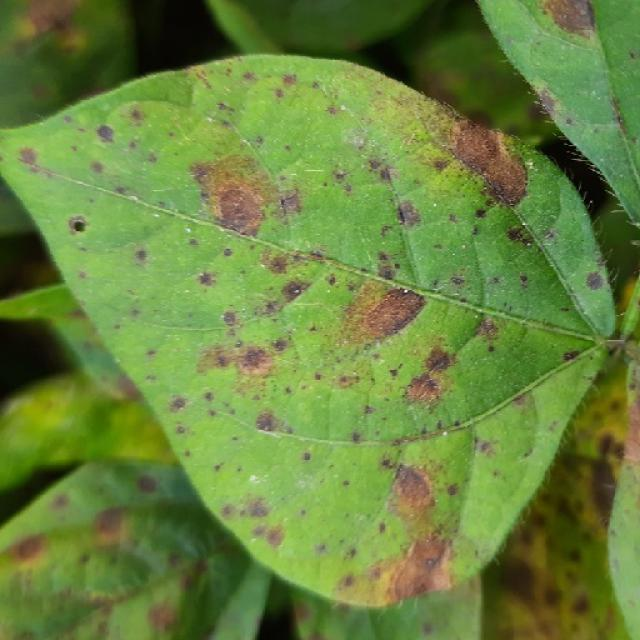Anthracnose: (429, 310, 589, 425), (192, 154, 276, 236), (449, 120, 527, 204), (341, 281, 426, 344), (383, 534, 454, 601), (197, 336, 286, 383), (248, 271, 318, 320), (588, 447, 621, 523), (390, 464, 434, 514), (498, 553, 541, 602), (545, 1, 596, 36), (406, 367, 450, 405), (329, 161, 371, 199), (147, 595, 180, 633), (609, 95, 632, 149), (10, 533, 47, 562), (94, 506, 126, 539), (236, 496, 274, 523), (534, 89, 562, 120), (396, 199, 423, 227), (472, 316, 499, 341), (254, 412, 277, 433), (17, 146, 38, 167), (264, 526, 284, 547), (137, 474, 158, 494), (585, 271, 604, 291), (95, 124, 115, 143), (68, 215, 88, 234), (476, 438, 496, 456), (168, 395, 188, 413), (572, 594, 590, 614), (377, 263, 396, 281), (51, 493, 70, 510), (271, 337, 289, 353), (336, 375, 357, 388), (221, 310, 237, 326), (197, 272, 214, 287), (562, 349, 581, 362), (216, 101, 235, 114), (89, 160, 105, 175), (368, 157, 384, 172), (281, 73, 298, 87), (134, 248, 148, 263), (221, 504, 236, 518), (342, 574, 355, 588), (309, 249, 325, 260), (381, 457, 395, 469), (325, 274, 337, 287), (450, 276, 465, 286), (216, 354, 228, 366), (187, 237, 200, 248), (326, 105, 339, 116), (351, 431, 362, 443), (203, 391, 214, 402), (378, 521, 387, 534), (519, 273, 529, 284), (302, 451, 311, 461)
Blackgram: (0, 55, 619, 639)
